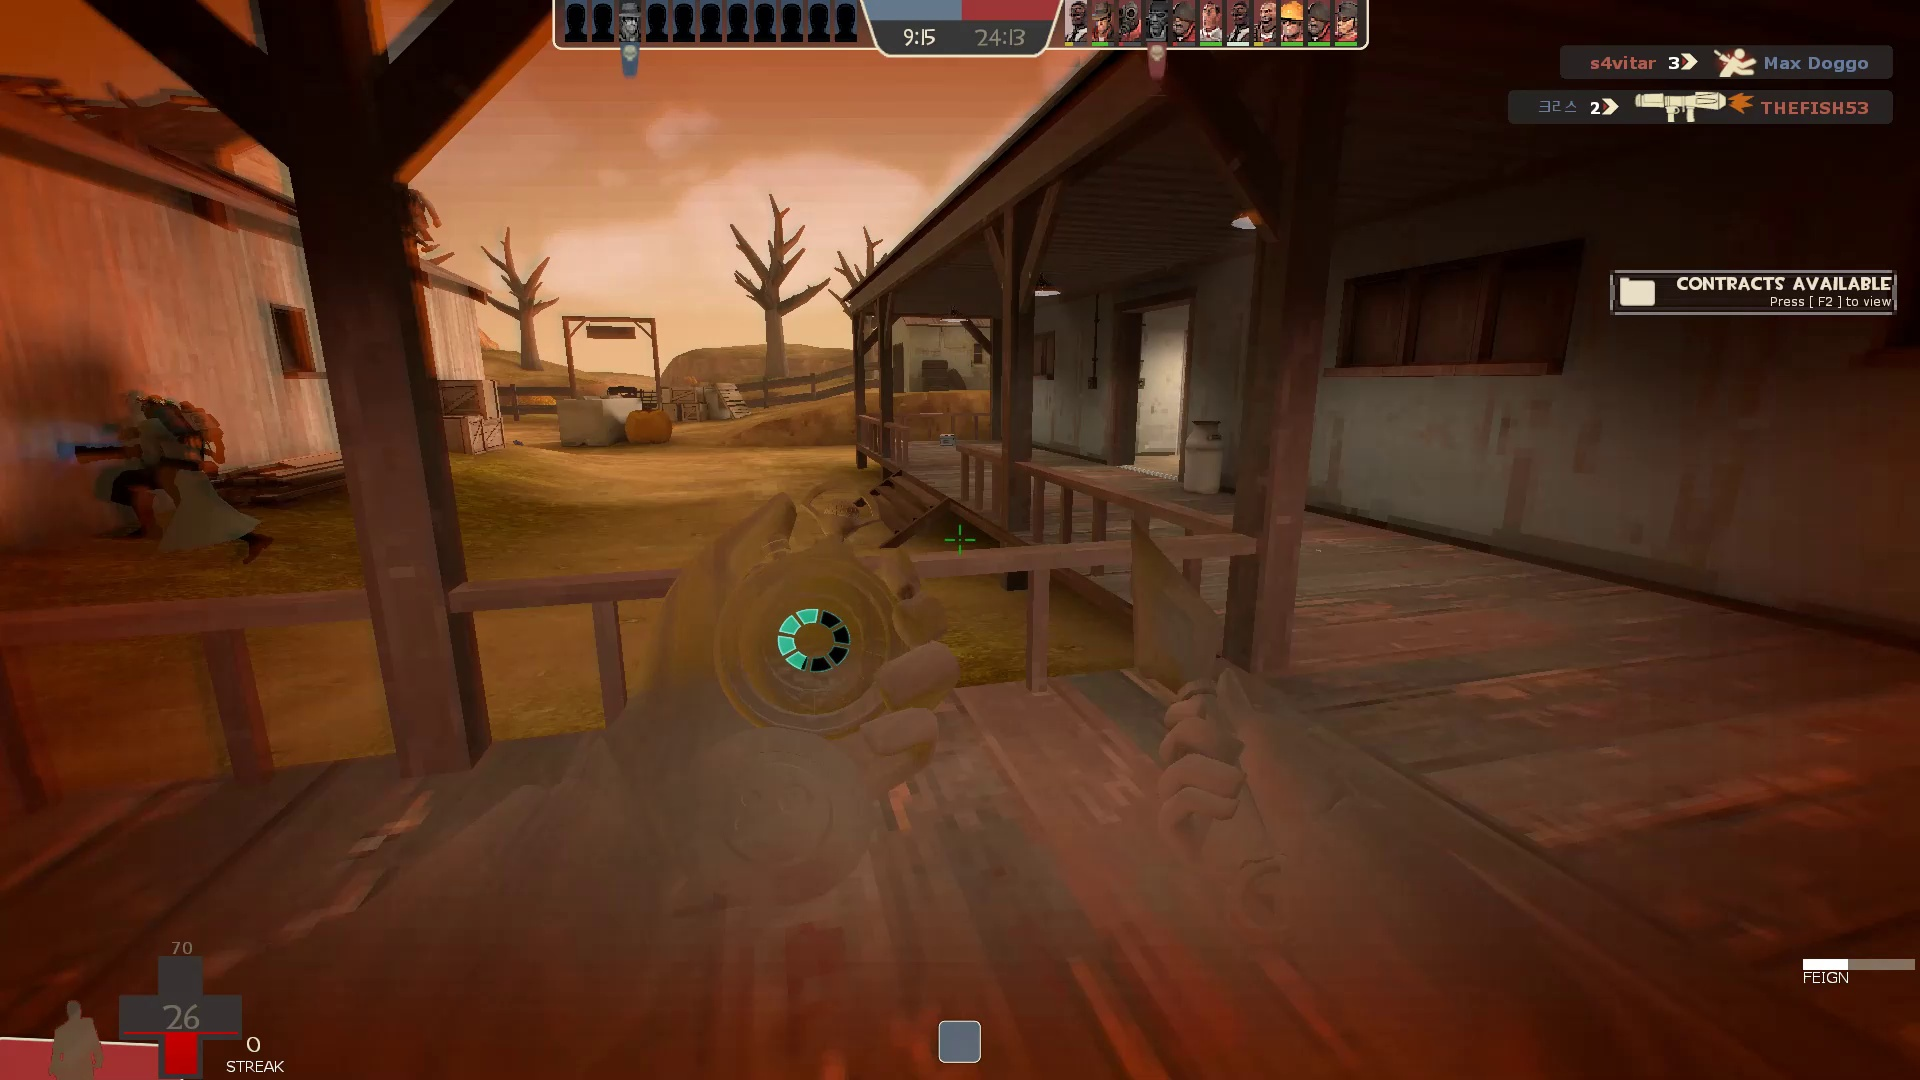blu_medic: (53, 380, 276, 580)
